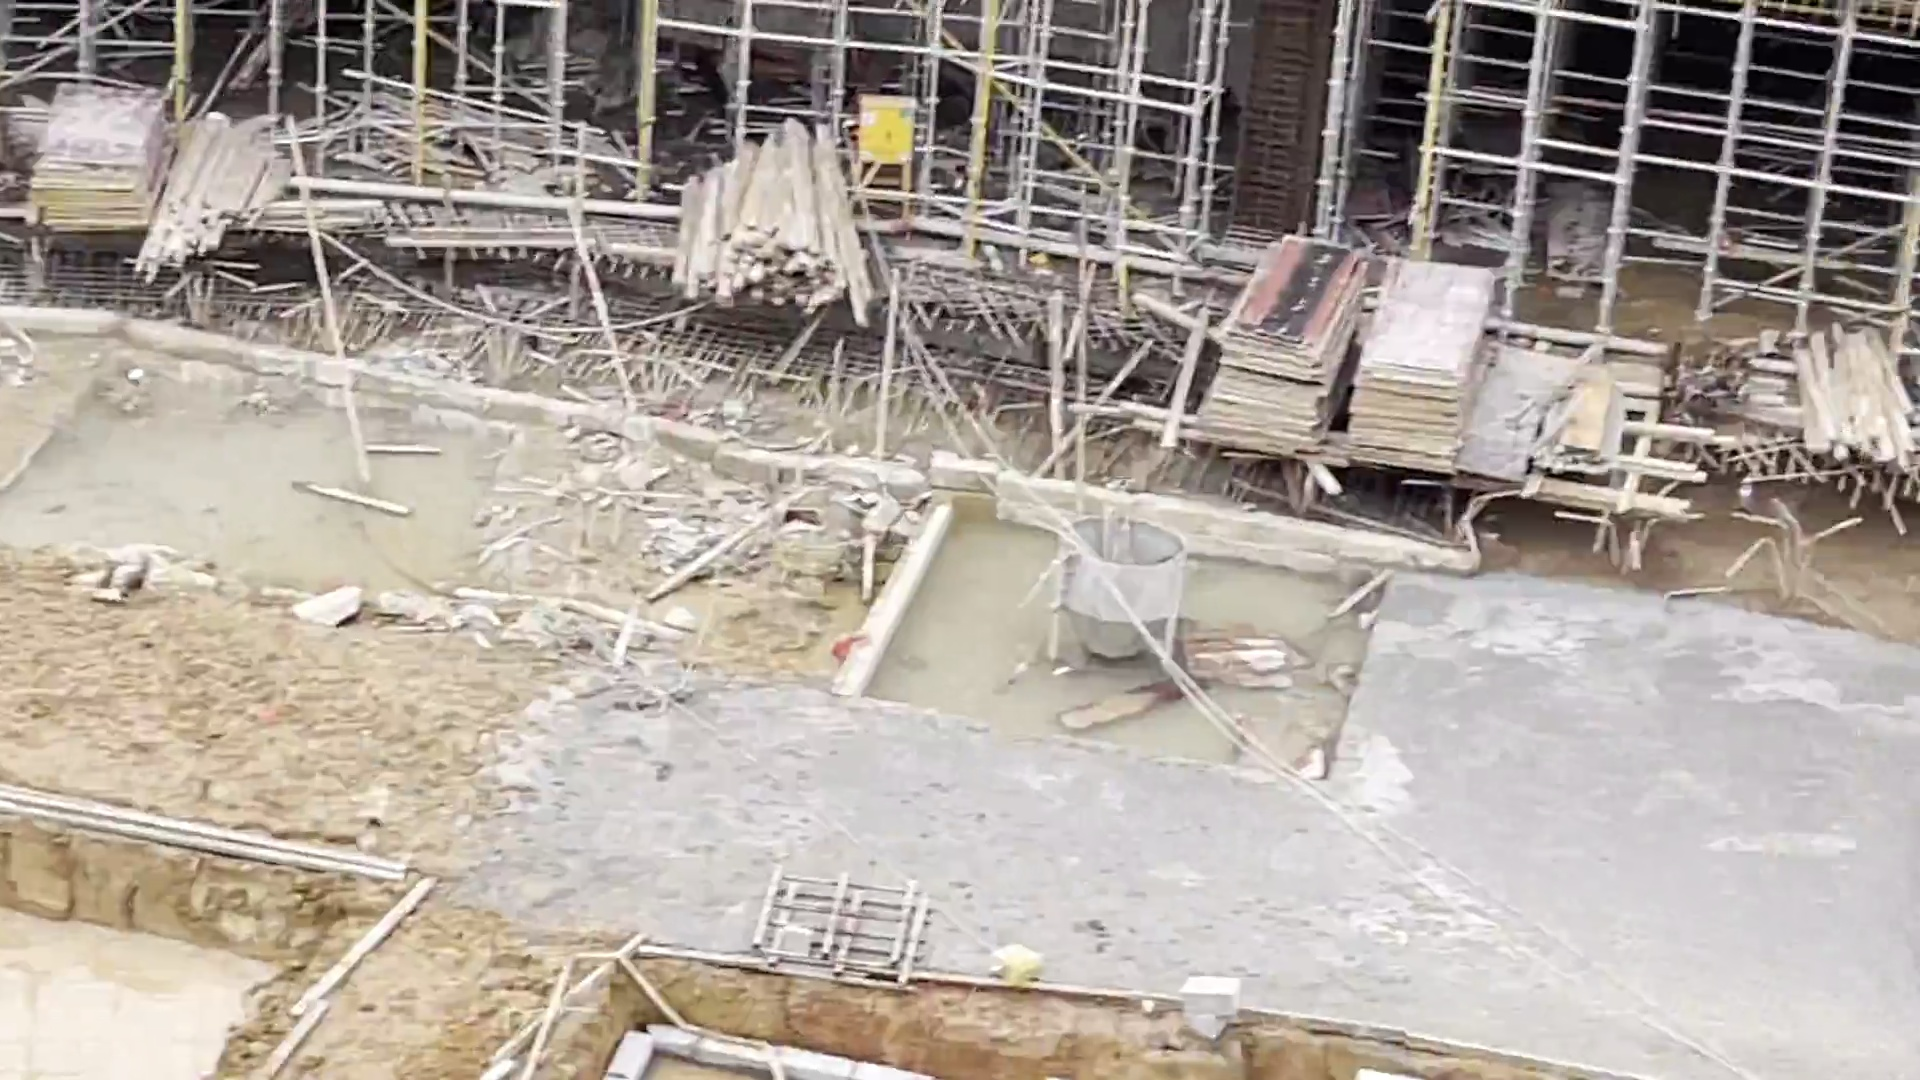board: (1192, 239, 1367, 454), (1342, 257, 1489, 468), (47, 83, 156, 229)
brick: (615, 1021, 928, 1079)
ebox: (860, 88, 919, 193)
wood: (694, 135, 845, 286), (171, 125, 261, 245)
